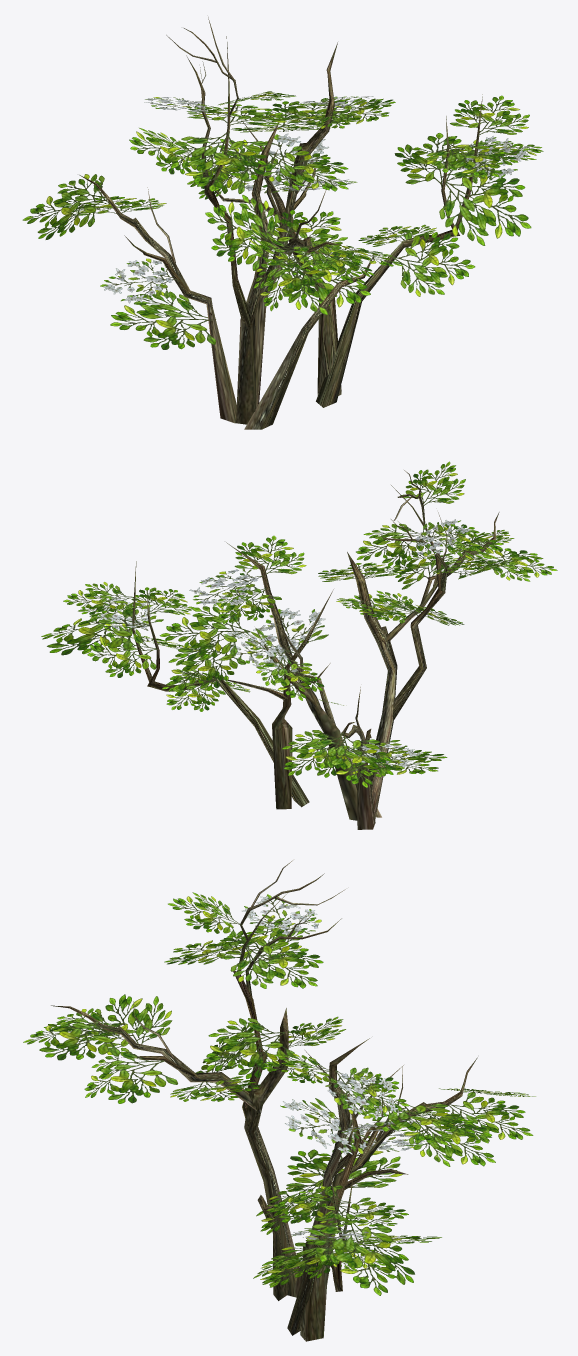
The model's file is S_Tree_Green009.FBX.
The picture shows the model from 3 angles, top to bottom: view 1: azimuth 30°, elevation 25°; view 2: azimuth 150°, elevation 25°; view 3: azimuth 270°, elevation 25°; orthographic projection. The views are drawn at different scales.
Parts seen in each view (by area): view 1: S_Tree_Green009; view 2: S_Tree_Green009; view 3: S_Tree_Green009.
Part boxes in pixels (bbox=[...]): S_Tree_Green009: bbox=[22, 17, 543, 429]; S_Tree_Green009: bbox=[41, 461, 557, 829]; S_Tree_Green009: bbox=[23, 860, 535, 1341].
Size of the model in its own units: 589 by 586 by 489.
